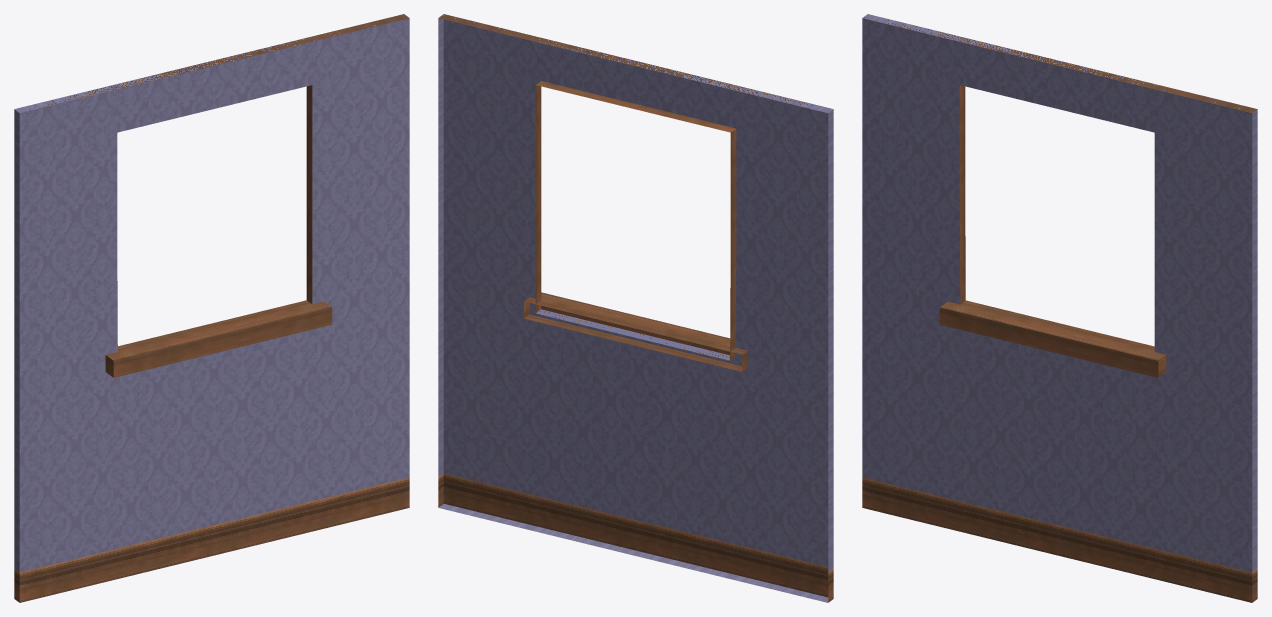
Rendered from window_wall3.glb.
3 views of the same model, side by side, from view 1: azimuth 30°, elevation 25°; view 2: azimuth 150°, elevation 25°; view 3: azimuth 330°, elevation 25° (orthographic).
Visible parts, largest first — view 1: window_wall3; view 2: window_wall3; view 3: window_wall3.
Boxes of the visible parts, left/top/right/bottom form: window_wall3: left=14, top=14, right=409, bottom=602; window_wall3: left=438, top=14, right=833, bottom=602; window_wall3: left=862, top=14, right=1257, bottom=602.
Size of the model in its own units: 2 by 2.4 by 0.1226.
Materials: 1 (1 with a texture image).
